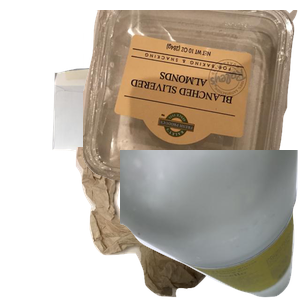glass: (120, 150, 300, 300)
paper: (50, 61, 257, 211)
plastic: (83, 10, 300, 190)
trash: (73, 147, 300, 300)
